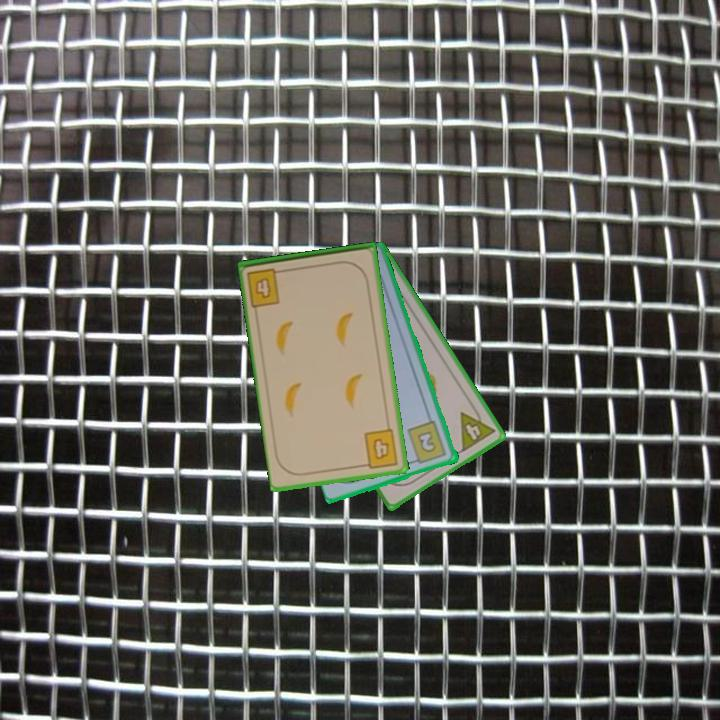2b: (404, 418, 450, 467)
4b: (244, 264, 288, 310), (358, 425, 401, 471)
4p: (457, 401, 498, 455)
